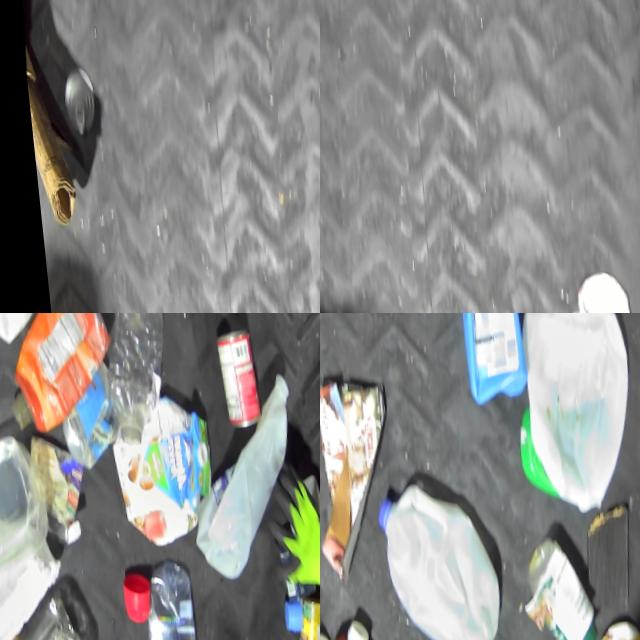can: (201, 313, 261, 428), (53, 67, 92, 136)
milk_jug: (168, 354, 305, 591), (503, 313, 634, 513), (357, 477, 500, 640)
non_white_jug: (0, 313, 120, 440), (447, 313, 525, 406)
plastic_bottle: (91, 313, 172, 445)
